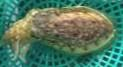Cephalopod: (5, 7, 114, 64)
